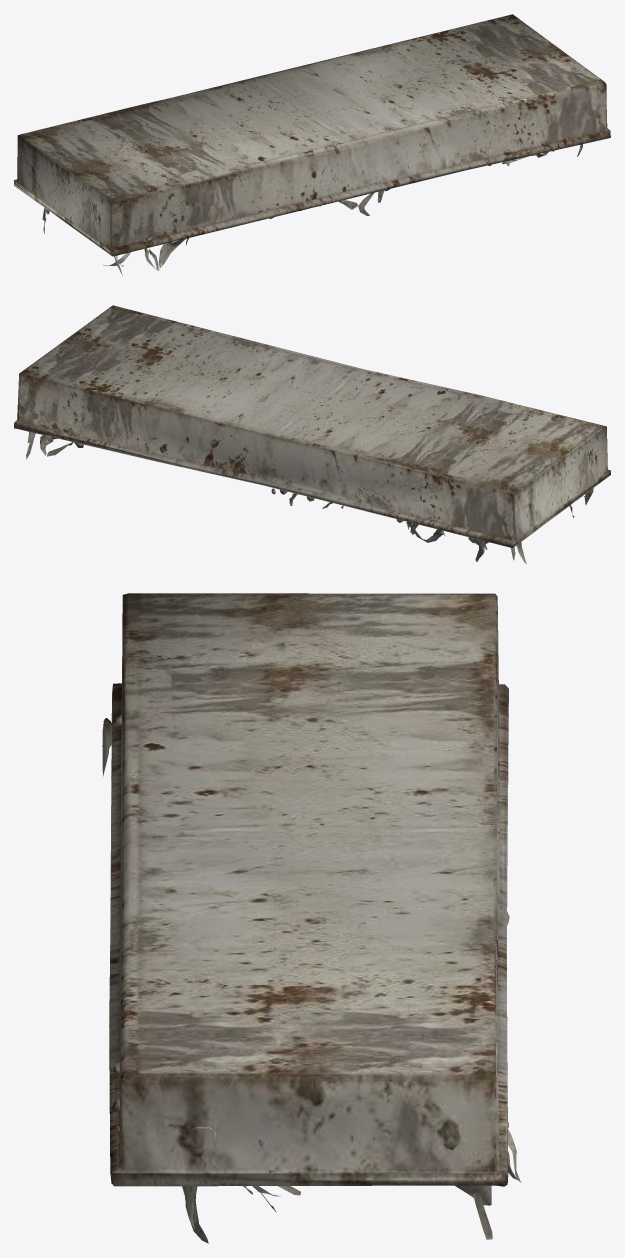
Rendered from fluoro.glb.
3 views of the same model, one above another, from view 1: azimuth 30°, elevation 25°; view 2: azimuth 150°, elevation 25°; view 3: azimuth 270°, elevation 25° (orthographic). The views are drawn at different scales.
Bounding box in the file's own units: 1 × 0.1693 × 0.365.
1 material, 1 textured.
